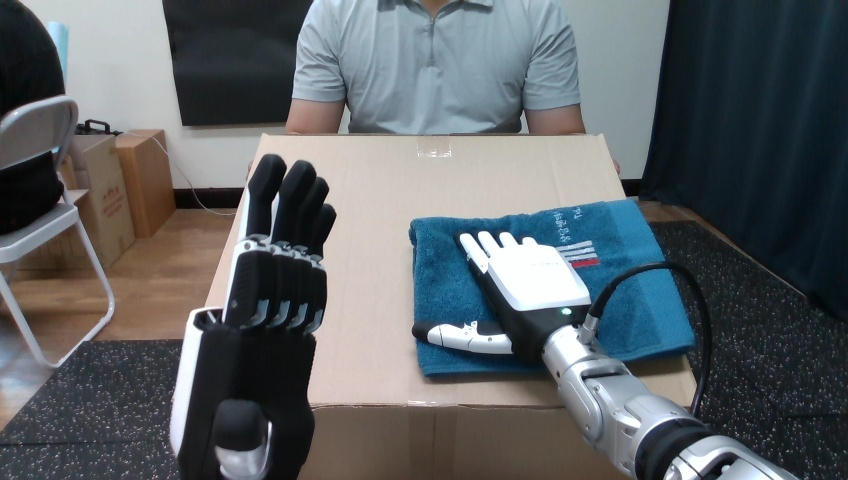left robot hand: (412, 231, 796, 479), (170, 154, 335, 478), (596, 268, 704, 411)
